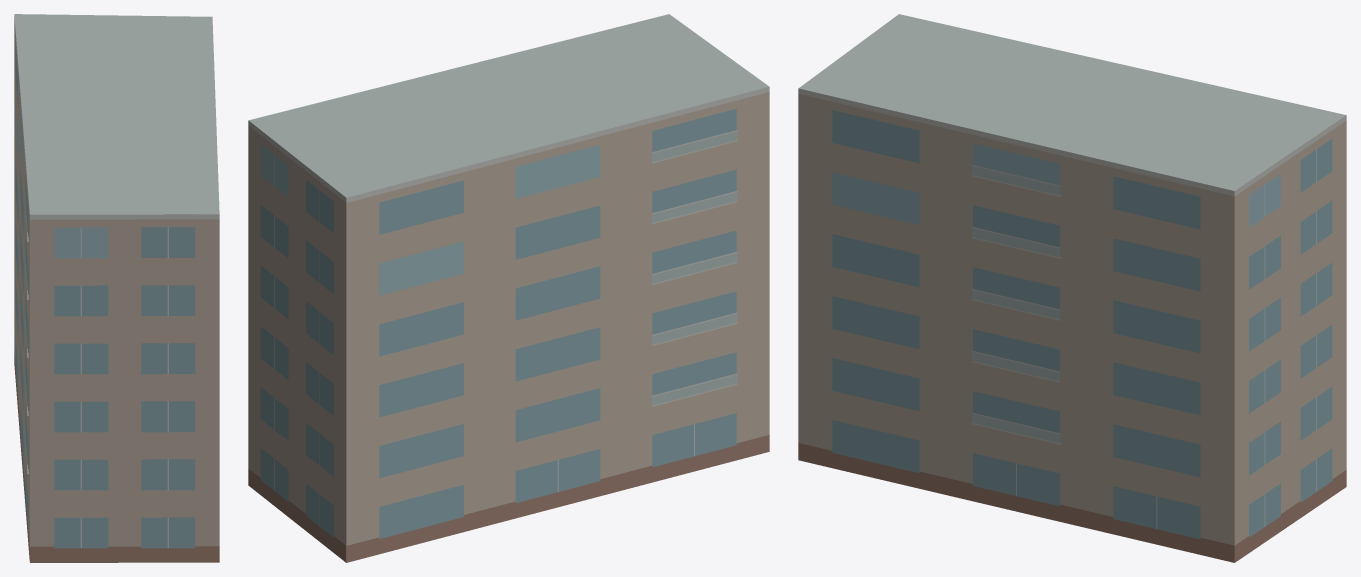
Rendered from survey-upis-32670087.glb.
3 views of the same model, side by side, from view 1: azimuth 30°, elevation 25°; view 2: azimuth 150°, elevation 25°; view 3: azimuth 270°, elevation 25° (orthographic). The views are drawn at different scales.
Parts seen in each view (by area): view 1: survey-upis-32670087.tmp; view 2: survey-upis-32670087.tmp; view 3: survey-upis-32670087.tmp.
Boxes of the visible parts, x1,y1,x2,y2 form: survey-upis-32670087.tmp: [14, 14, 219, 562]; survey-upis-32670087.tmp: [248, 14, 769, 562]; survey-upis-32670087.tmp: [798, 14, 1346, 562].
Size of the model in its own units: 17.47 by 17.1 by 22.85.
